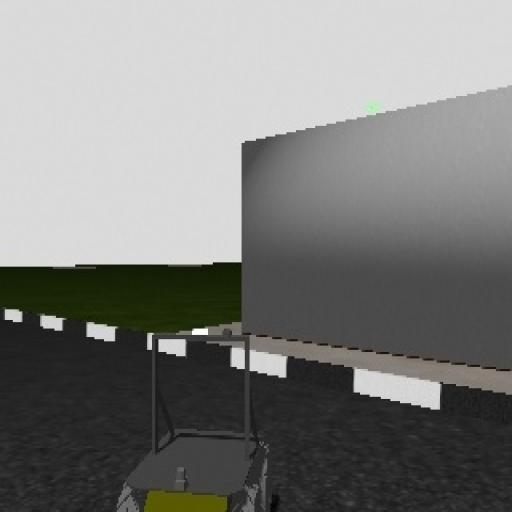huskya200: (106, 313, 284, 512)
